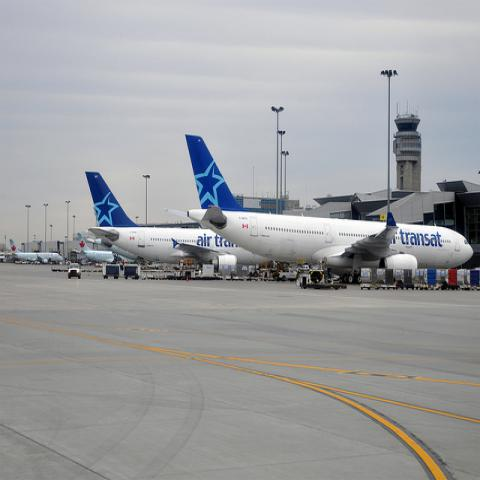car: (279, 268, 297, 280)
truck: (102, 262, 121, 282), (123, 263, 140, 280), (68, 262, 82, 280)
